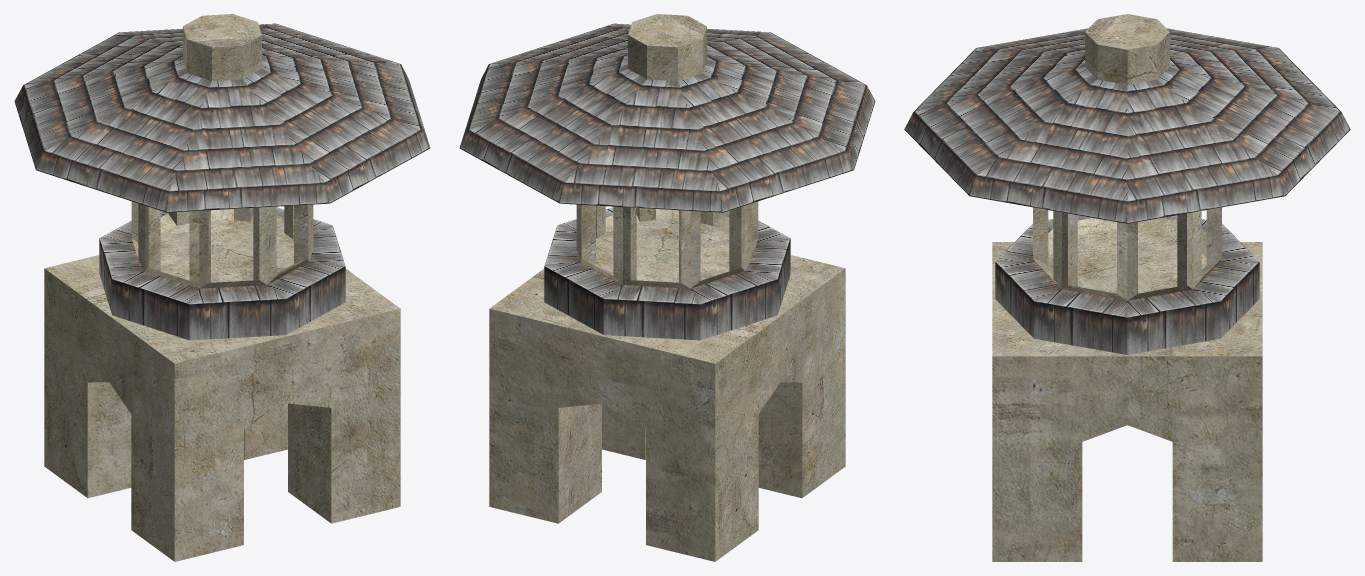
File: Lamp03.fbx
3 views of the same model, side by side, from view 1: azimuth 30°, elevation 25°; view 2: azimuth 150°, elevation 25°; view 3: azimuth 270°, elevation 25° (orthographic). The views are drawn at different scales.
Visible parts, largest first — view 1: Cylinder_001, Cylinder_002; view 2: Cylinder_001, Cylinder_002; view 3: Cylinder_002, Cylinder_001.
Part boxes in pixels (x1,y1,x2,y2): Cylinder_001: [44, 14, 400, 561]; Cylinder_002: [14, 23, 430, 340]; Cylinder_001: [489, 14, 845, 561]; Cylinder_002: [459, 23, 875, 340]; Cylinder_002: [904, 28, 1350, 354]; Cylinder_001: [992, 14, 1262, 561].
Size of the model in its own units: 216 by 252 by 216.
